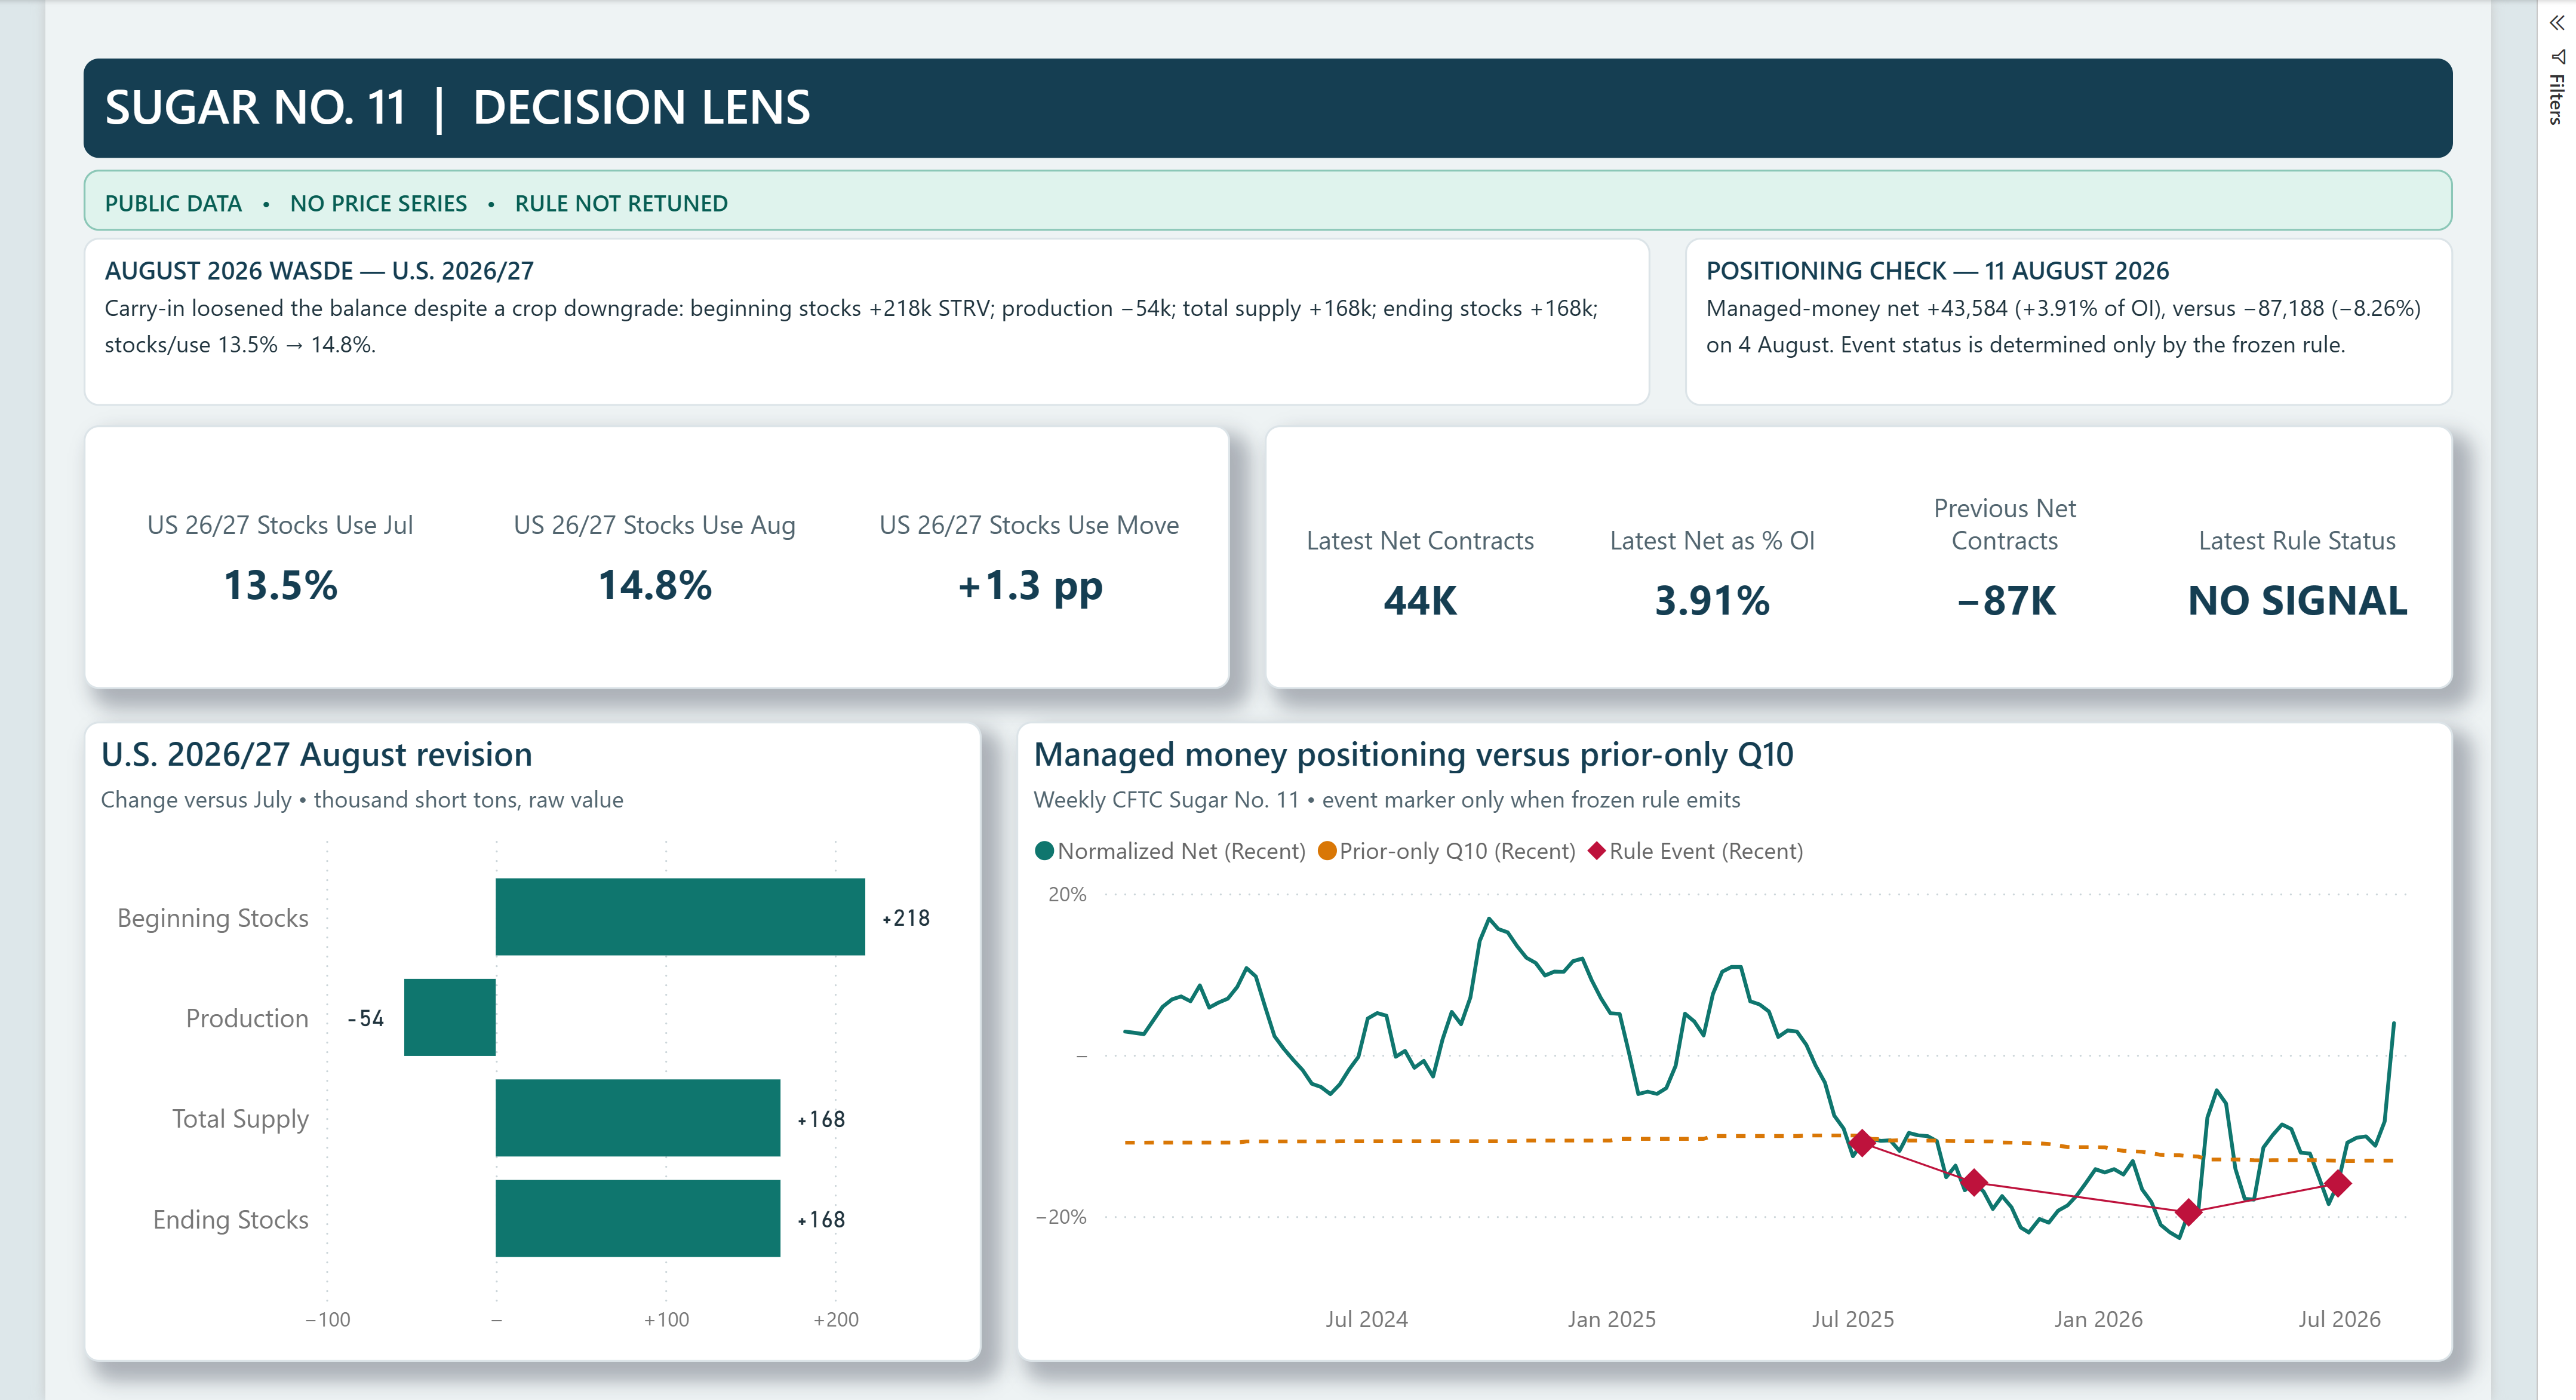

This screenshot's page, from the dashboard's own definition file:
{"tool":"powerbi","page":{"name":"Decision Lens","canvas":[1280,720],"ordinal":0},"visuals":[{"type":"textbox","box":[20,18,1240,52],"z":1000},{"type":"textbox","box":[20,76,1240,32],"z":2000},{"type":"textbox","box":[20,112,820,88],"z":3000},{"type":"textbox","box":[858,112,402,88],"z":4000},{"type":"cardVisual","fields":{"Data":["WASDE Revisions.US 26/27 Stocks Use Jul","WASDE Revisions.US 26/27 Stocks Use Aug","WASDE Revisions.US 26/27 Stocks Use Move"]},"box":[20,210,600,138],"z":5000},{"type":"cardVisual","fields":{"Data":["Positioning Releases.Latest Net Contracts","Positioning Releases.Latest Net as % OI","Positioning Releases.Previous Net Contracts","Positioning Releases.Latest Rule Status"]},"box":[638,210,622,138],"z":6000},{"type":"clusteredBarChart","title":"U.S. 2026/27 August revision","fields":{"Category":["WASDE Revisions.attribute"],"Y":["WASDE Revisions.Aug 2026 Revision (k STRV)"]},"box":[20,365,470,335],"z":7000},{"type":"lineChart","title":"Managed money positioning versus prior-only Q10","fields":{"Category":["Positioning Releases.report_date"],"Y":["Positioning Releases.Normalized Net (Recent)","Positioning Releases.Prior-only Q10 (Recent)","Positioning Releases.Rule Event (Recent)"]},"box":[508,365,752,335],"z":8000}]}

Visuals, with their boxes on the page's 1280x720 design canvas (x1, y1, x2, y2). These are canvas units, not pixel positions in the 2576x1400 screenshot, which may show the page scaled, cropped or inside an application window:
textbox: bbox=[20, 18, 1260, 70]
textbox: bbox=[20, 76, 1260, 108]
textbox: bbox=[20, 112, 840, 200]
textbox: bbox=[858, 112, 1260, 200]
cardVisual - WASDE Revisions.US 26/27 Stocks Use Jul x WASDE Revisions.US 26/27 Stocks Use Aug: bbox=[20, 210, 620, 348]
cardVisual - Positioning Releases.Latest Net Contracts x Positioning Releases.Latest Net as % OI: bbox=[638, 210, 1260, 348]
"U.S. 2026/27 August revision" clusteredBarChart: bbox=[20, 365, 490, 700]
"Managed money positioning versus prior-only Q10" lineChart: bbox=[508, 365, 1260, 700]
